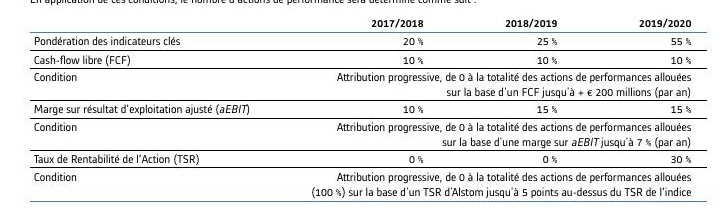table: (0, 0, 727, 214)
